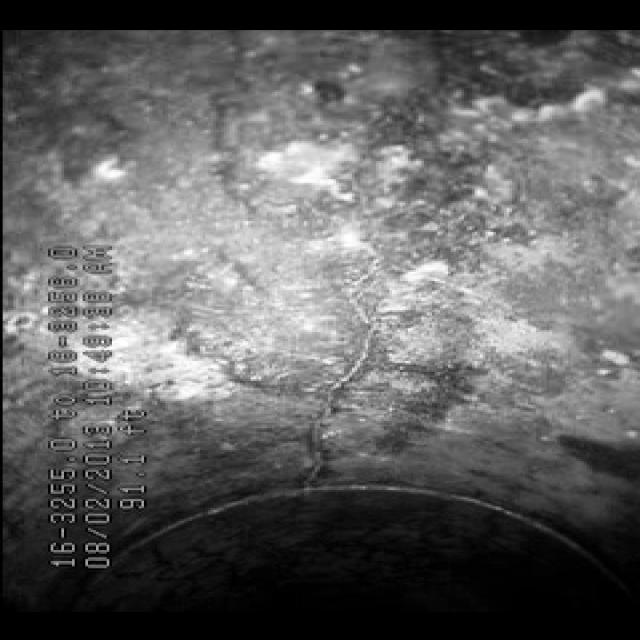Crack: (248, 127, 438, 470)
